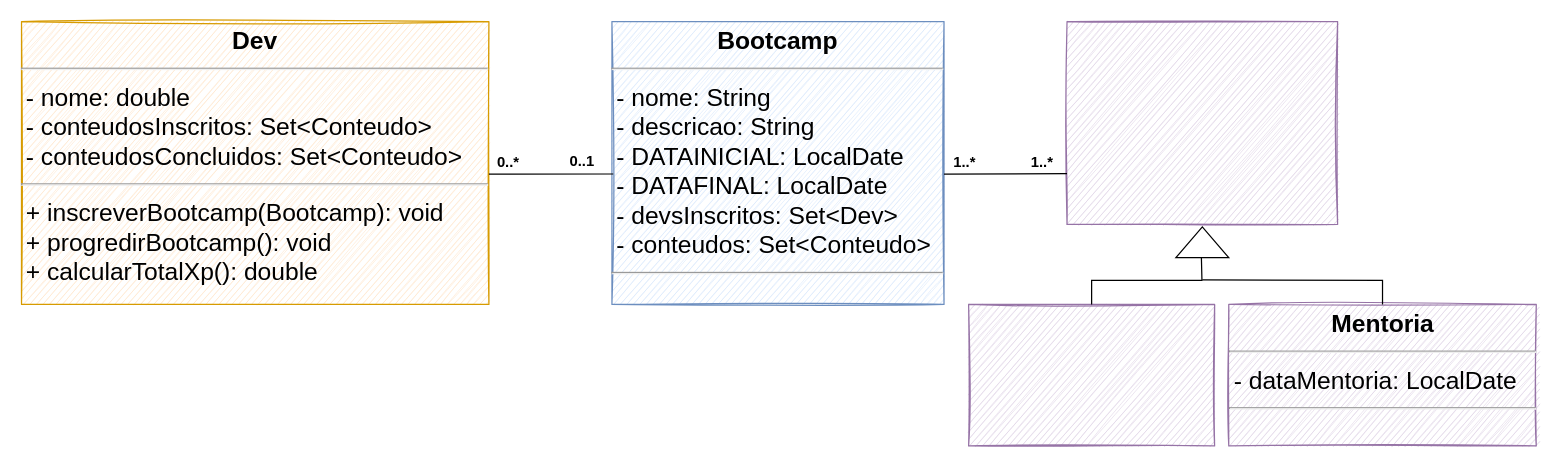
Some shapes in this 1558 by 467 pixel diagram are drawn without their labels. Each missing label, with the centre of its shape:
"Conteudo - titulo: String - descricao: String + calcularXp(): int" belongs at [1202,122].
"Curso - cargaHoraria: int" belongs at [1091,374].
